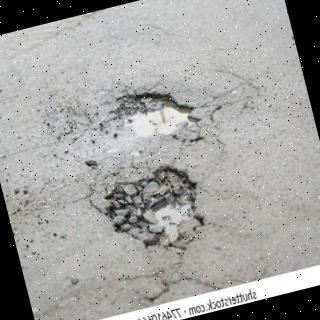pothole: (103, 164, 203, 248), (100, 90, 203, 153)
